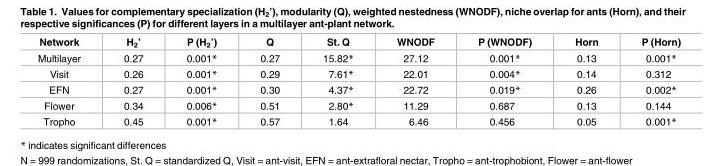table: (36, 37, 680, 126)
table column: (455, 37, 552, 126), (374, 37, 455, 126), (300, 37, 374, 126), (164, 37, 237, 126), (552, 37, 619, 126), (36, 37, 101, 126), (101, 37, 164, 126), (237, 37, 300, 126), (619, 37, 680, 126)
table column header: (36, 37, 680, 49)
table row: (36, 49, 680, 65), (36, 65, 680, 81), (36, 81, 680, 97), (36, 97, 680, 112), (36, 112, 680, 126), (36, 37, 680, 49)
